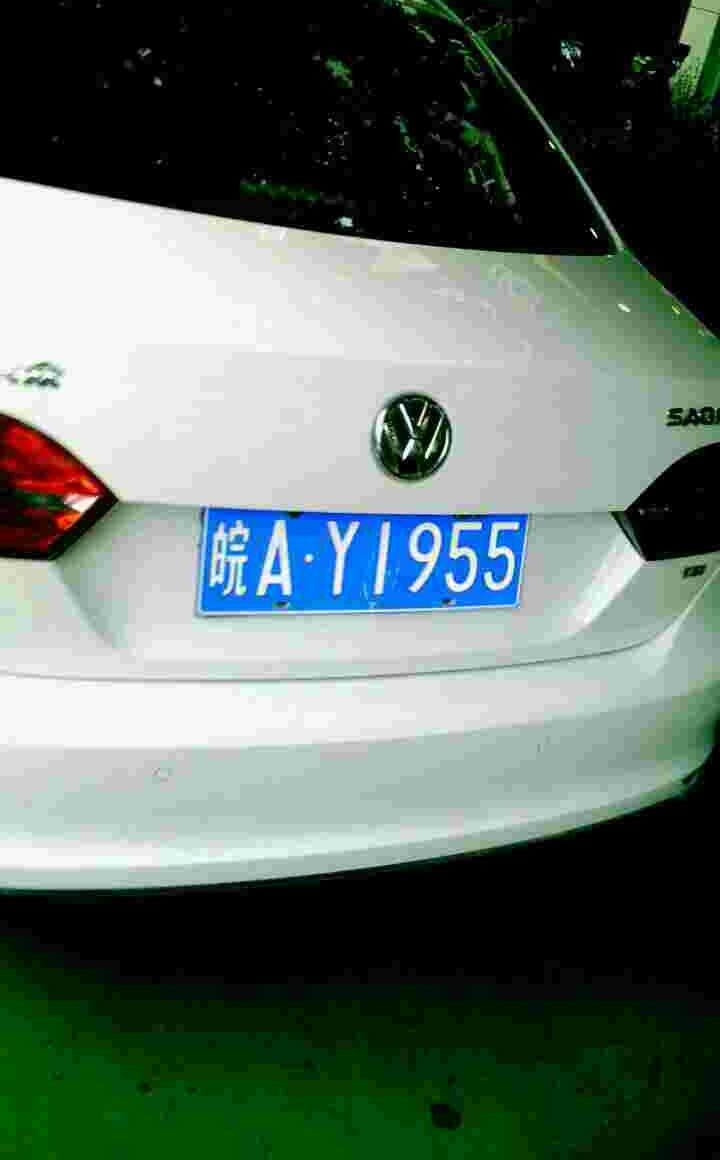license_plate: (219, 519, 530, 621)
